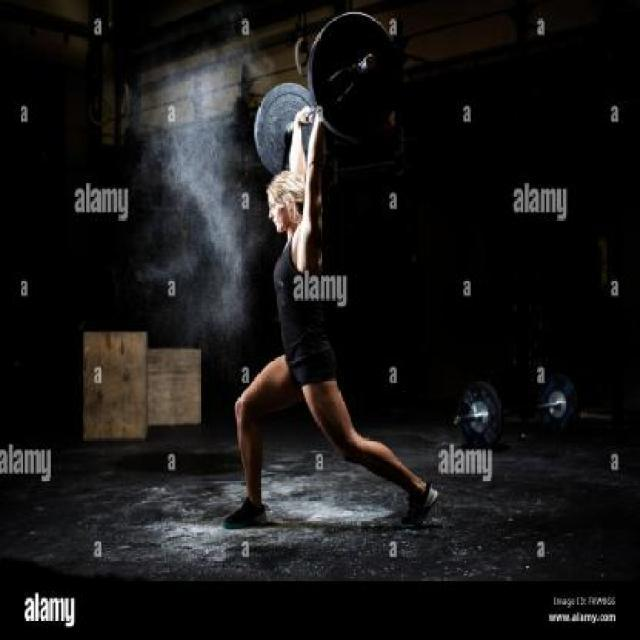Barbell: (363, 50, 377, 73)
